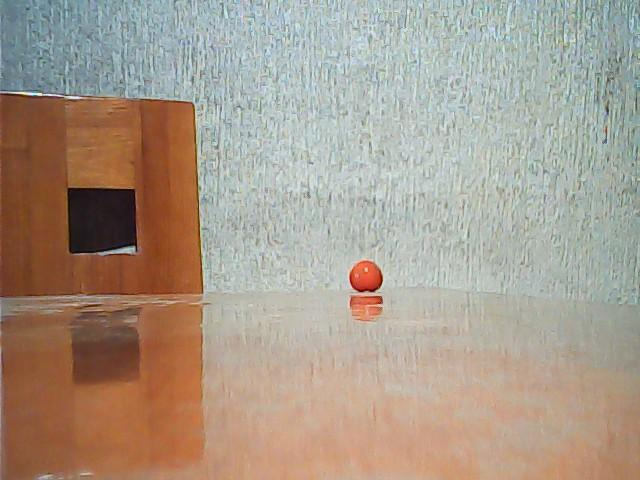maduro: (348, 260, 383, 292)
